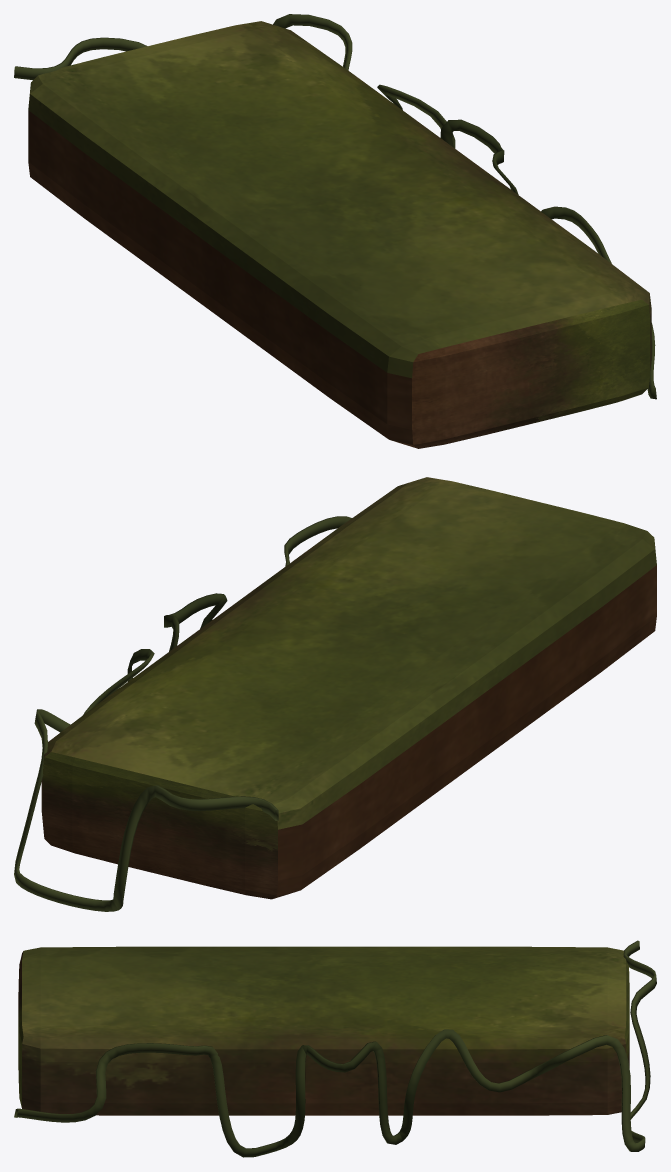
File: F_Platform_3_new.fbx
3 renders of one model, top to bottom at view 1: azimuth 30°, elevation 25°; view 2: azimuth 150°, elevation 25°; view 3: azimuth 270°, elevation 25°, orthographic. The views are drawn at different scales.
Parts seen in each view (by area): view 1: F_Platform_3; view 2: F_Platform_3; view 3: F_Platform_3.
Boxes of the visible parts, box(x1,y1,x2,y2) form: F_Platform_3: box(14, 14, 656, 448); F_Platform_3: box(14, 477, 656, 911); F_Platform_3: box(14, 940, 656, 1157).
Size of the model in its own units: 9.77 by 2.17 by 4.24.
1 material, 1 textured.
